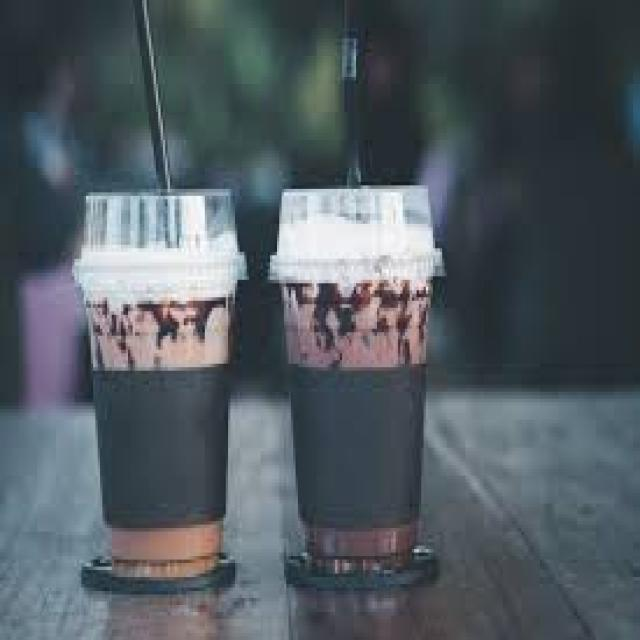cup: (250, 124, 460, 596), (65, 158, 253, 600)
